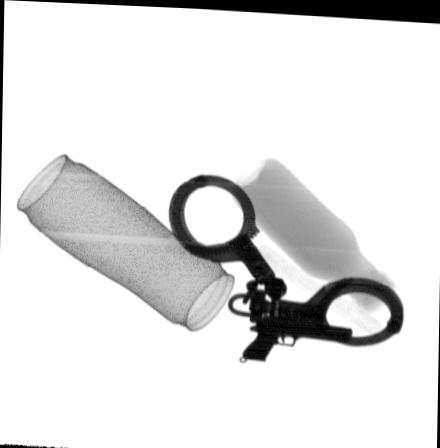Gun: (241, 313, 353, 360)
HandCuffs: (168, 171, 402, 344)
